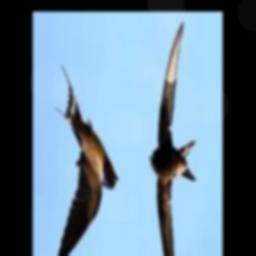Swallow: (56, 67, 119, 256), (149, 22, 196, 256)
